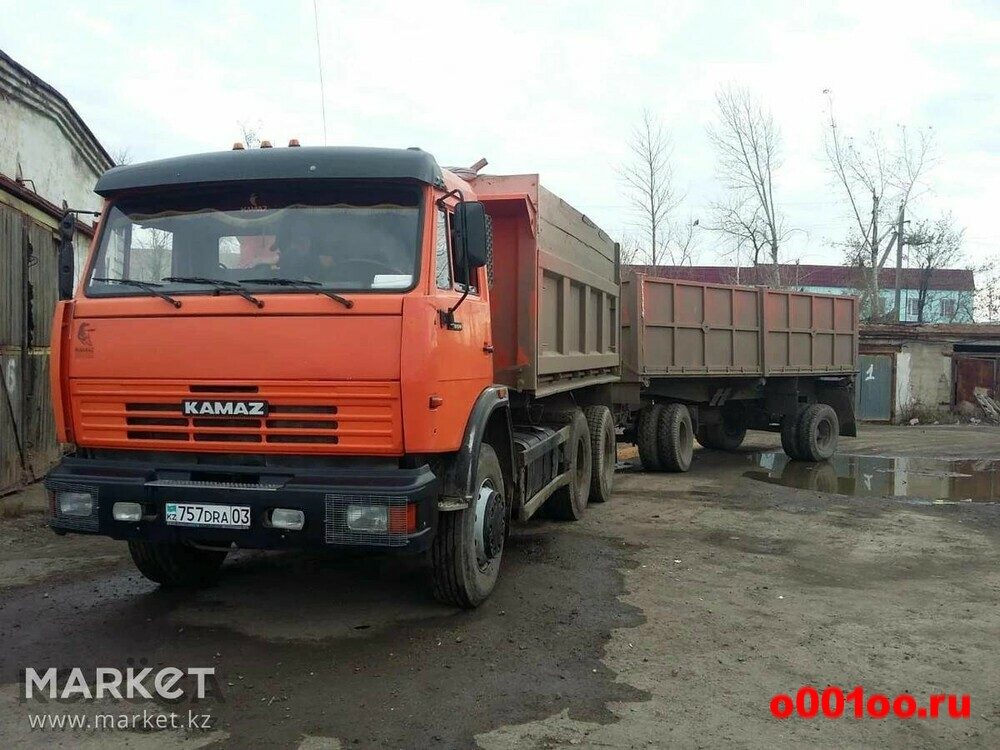license_plate: (167, 504, 252, 526)
